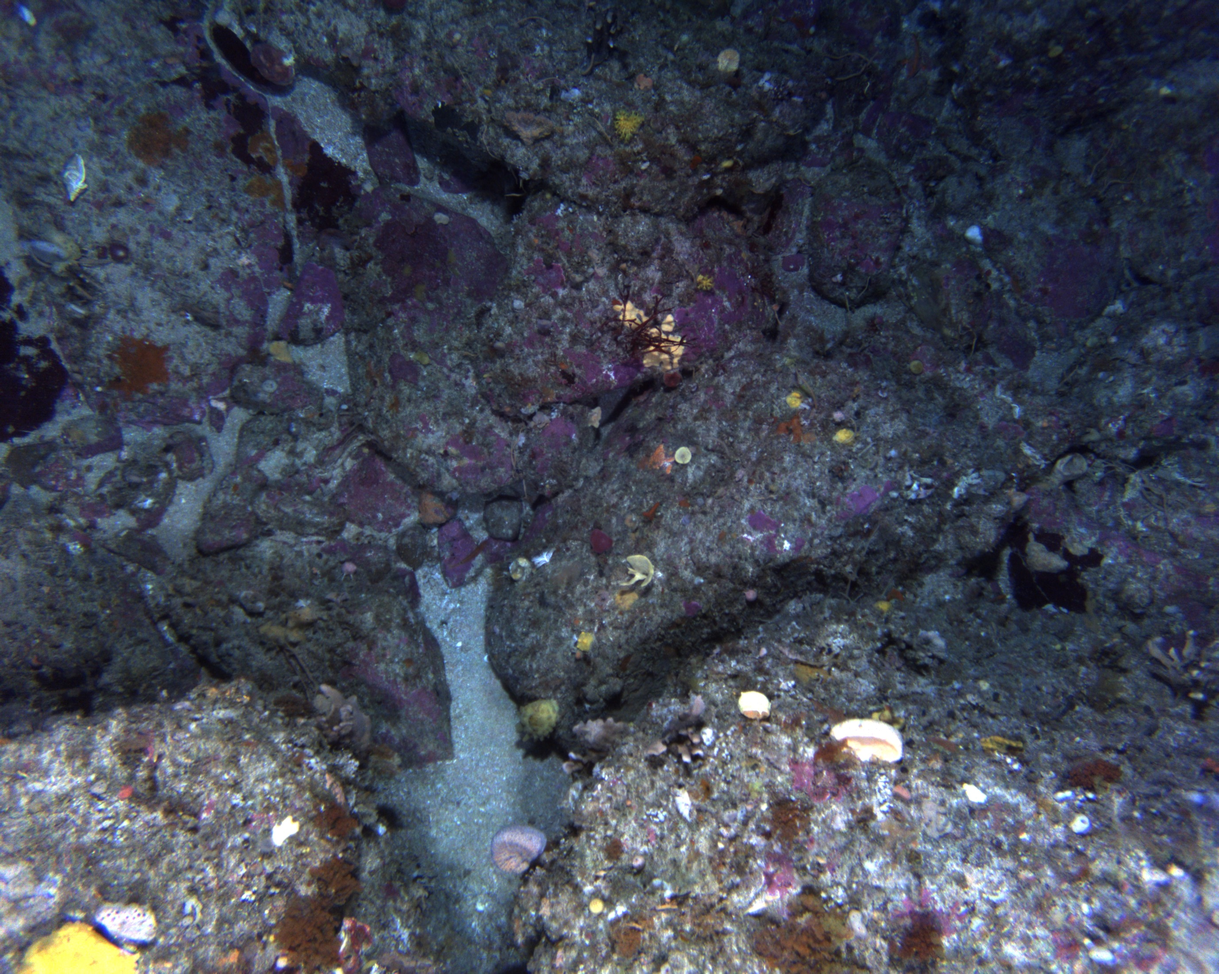Brachionichthyidae: (900, 32, 928, 82)
